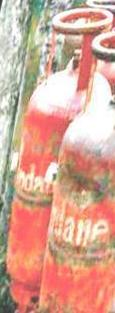cylinder: (1, 1, 115, 313)
